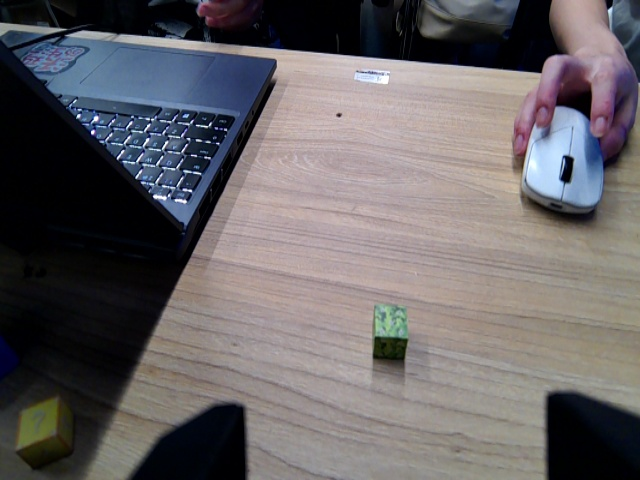grass: (369, 305, 411, 361)
